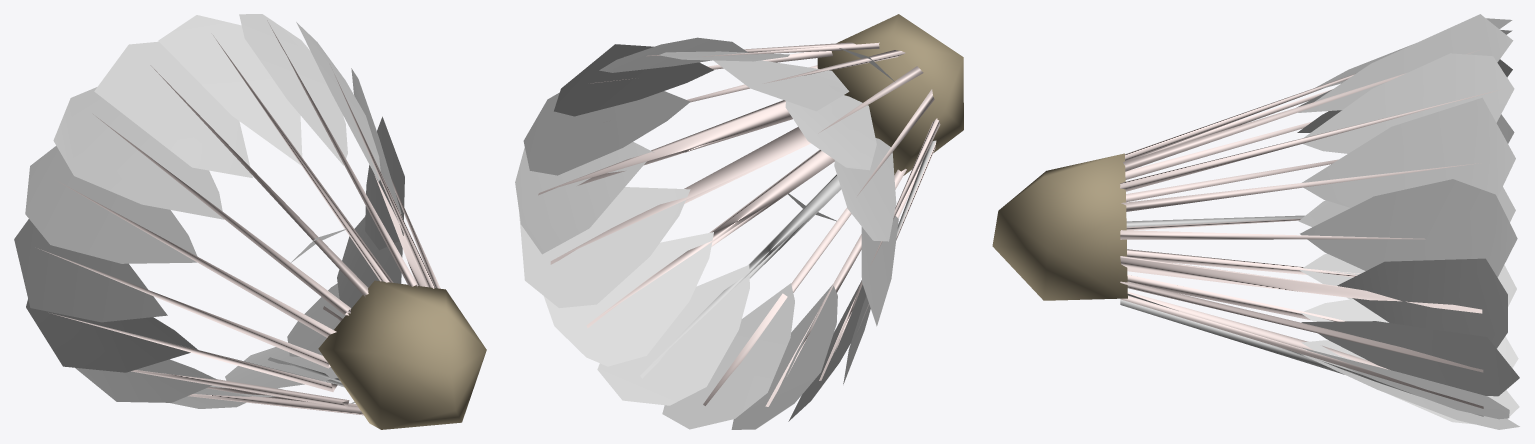
Rendered from ball.fbx.
The picture shows the model from 3 angles, left to right: view 1: azimuth 30°, elevation 25°; view 2: azimuth 150°, elevation 25°; view 3: azimuth 270°, elevation 25°; orthographic projection.
Parts seen in each view (by area): view 1: Shuttlecock.001; view 2: Shuttlecock.001; view 3: Shuttlecock.001.
Boxes of the visible parts, box(x1,y1,x2,y2) form: Shuttlecock.001: box(14, 14, 486, 429); Shuttlecock.001: box(515, 14, 963, 429); Shuttlecock.001: box(992, 14, 1519, 429).
Size of the model in its own units: 8.06 by 7.92 by 10.18.
